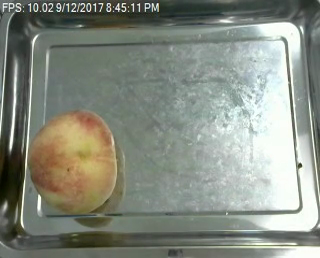Peach: (27, 108, 118, 213)
